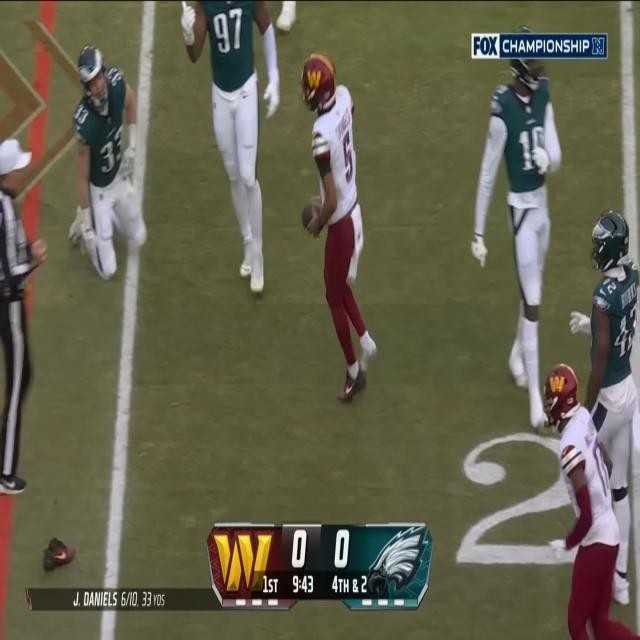Ball: (298, 194, 330, 237)
